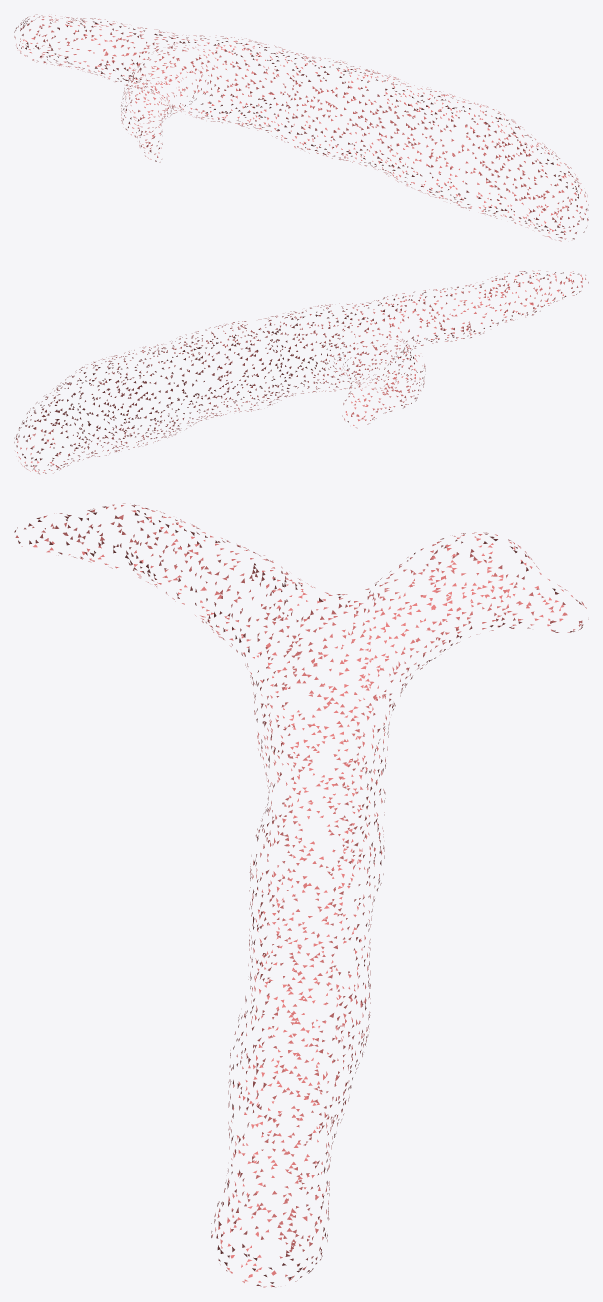
Rendered from morph_000.glb.
3 renders of one model, top to bottom at view 1: azimuth 30°, elevation 25°; view 2: azimuth 150°, elevation 25°; view 3: azimuth 270°, elevation 25°, orthographic. The views are drawn at different scales.
Size of the model in its own units: 131 by 70.74 by 84.13.
